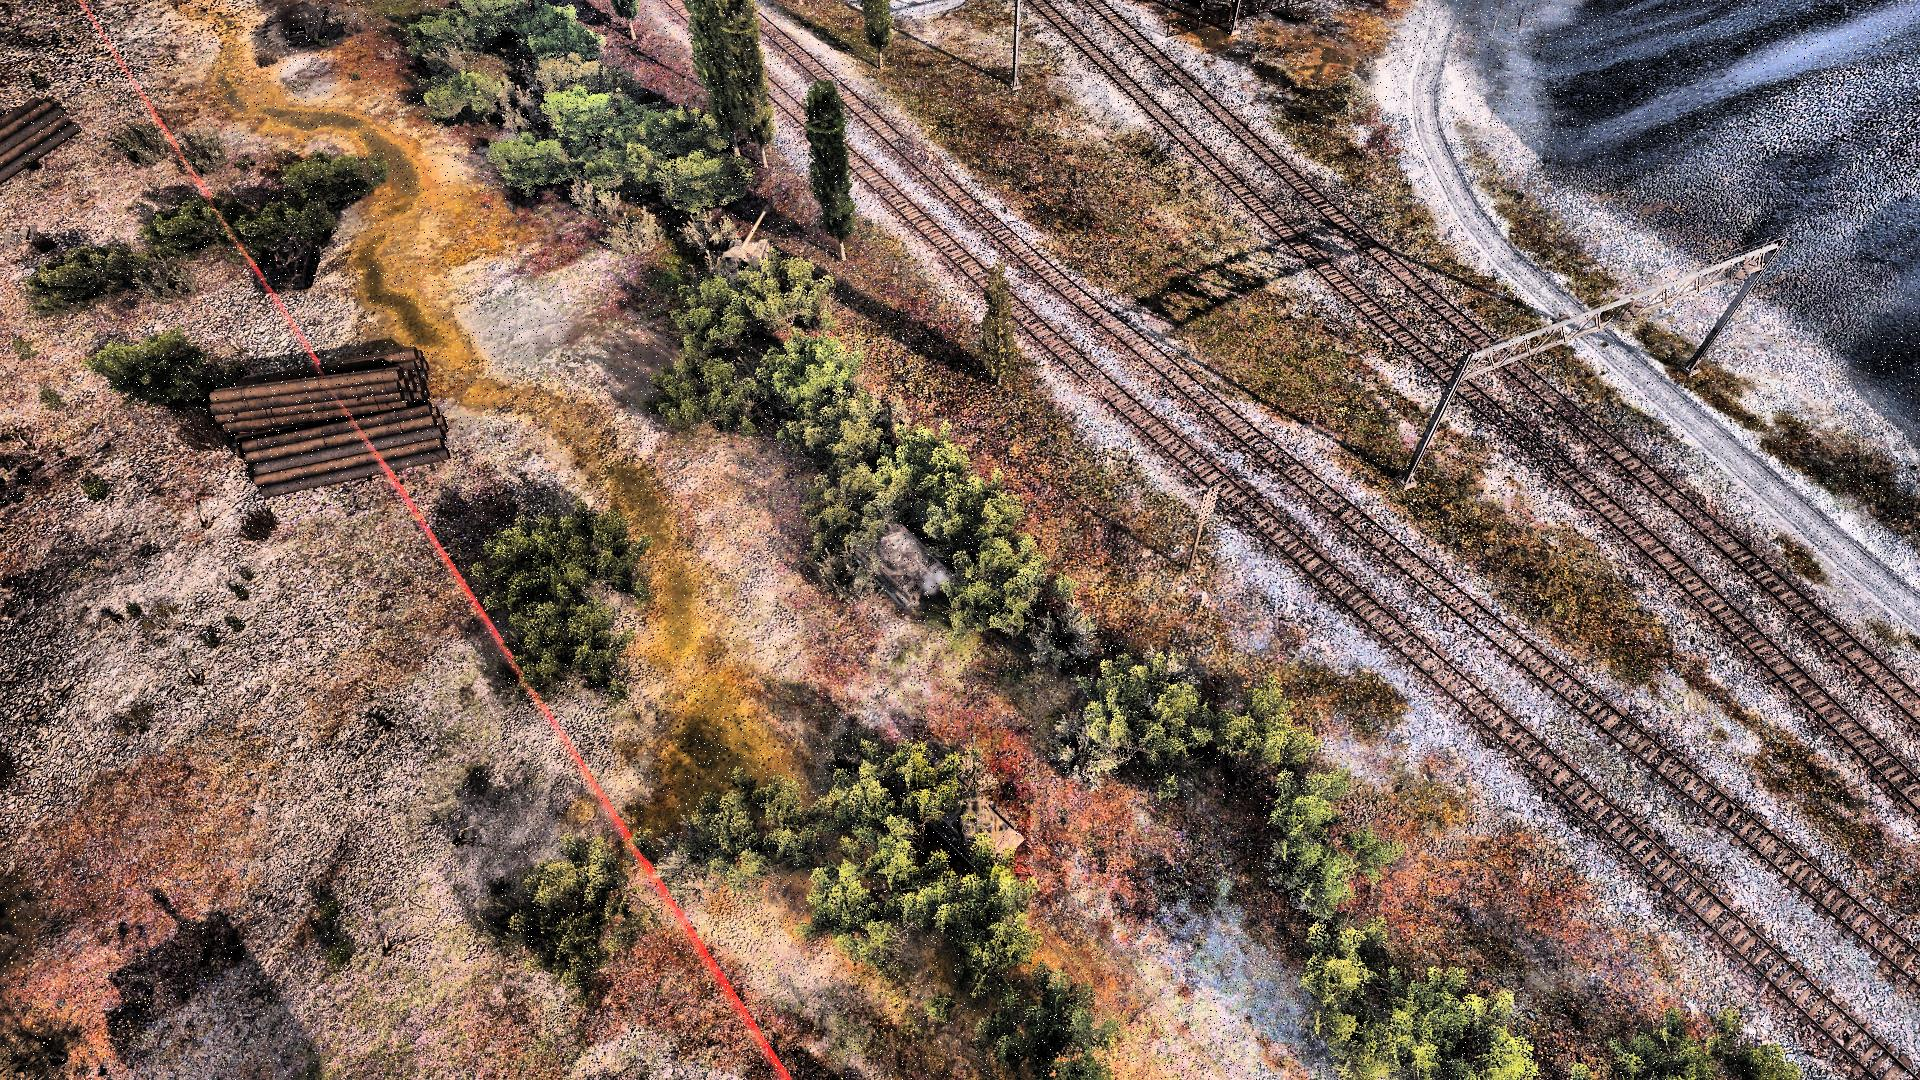military-vehicle: (914, 727, 1030, 880), (851, 501, 949, 611)
